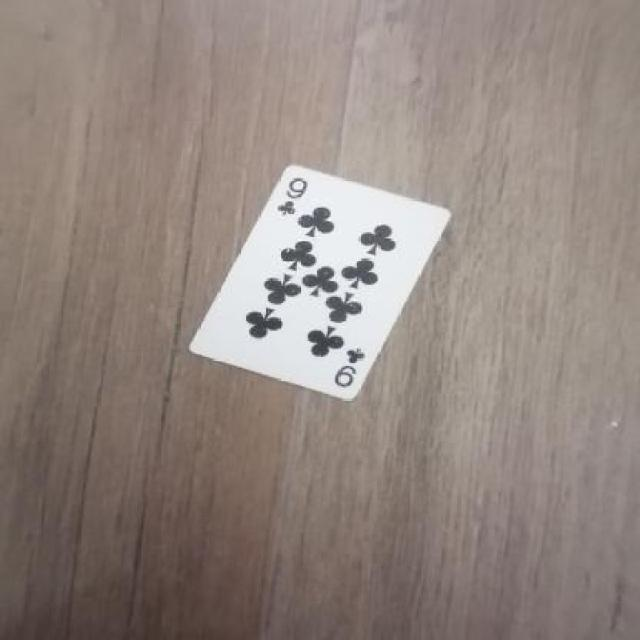9C: (304, 348, 382, 415), (267, 160, 322, 234)
